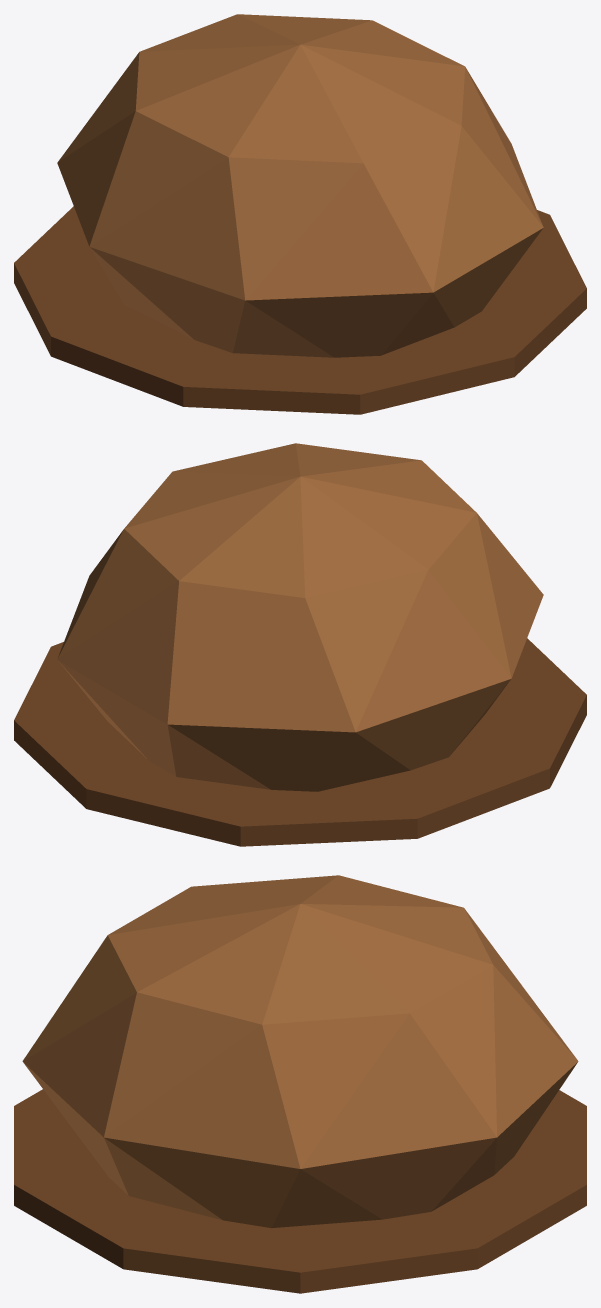
File: drop_leather_cap.glb
3 renders of one model, top to bottom at view 1: azimuth 30°, elevation 25°; view 2: azimuth 150°, elevation 25°; view 3: azimuth 270°, elevation 25°, orthographic. The views are drawn at different scales.
Parts seen in each view (by area): view 1: drop_leather_cap; view 2: drop_leather_cap; view 3: drop_leather_cap.
Part boxes in pixels (x1,y1,x2,y2): drop_leather_cap: (14, 14, 586, 414); drop_leather_cap: (14, 443, 586, 846); drop_leather_cap: (14, 875, 586, 1293).
Size of the model in its own units: 0.26 by 0.15 by 0.2473.
